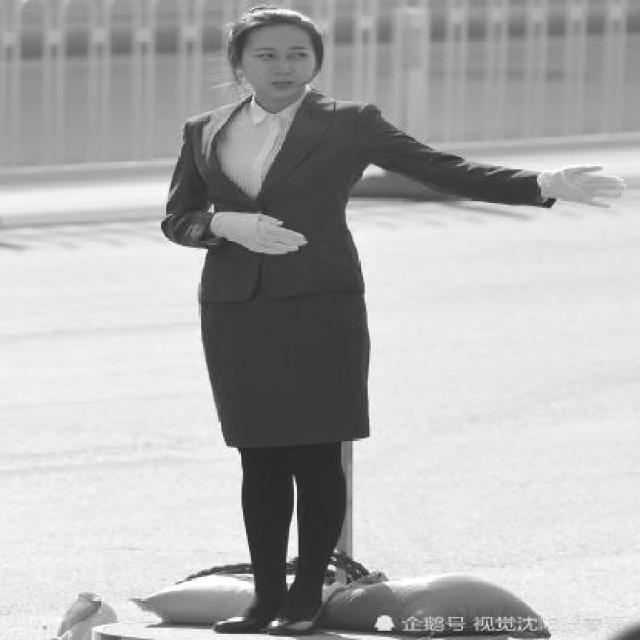face_nomask: (238, 25, 317, 103)
hand_glove: (535, 163, 628, 211), (214, 210, 309, 256)
head_nohelmet: (232, 3, 325, 45)
person: (171, 1, 449, 634)
